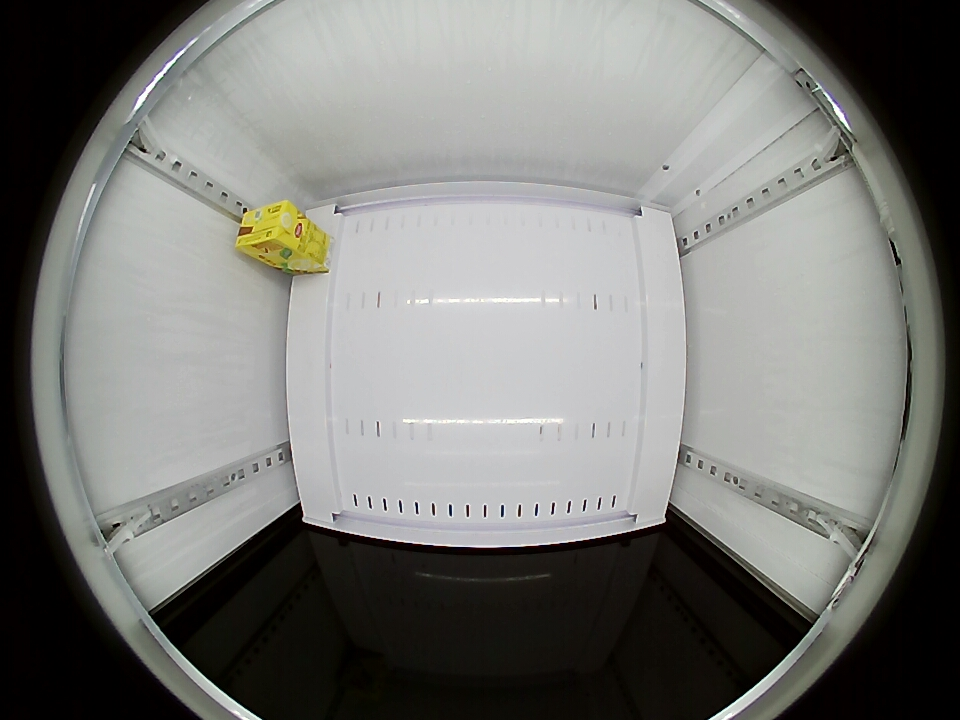weitaningmeng: (235, 200, 304, 260)
